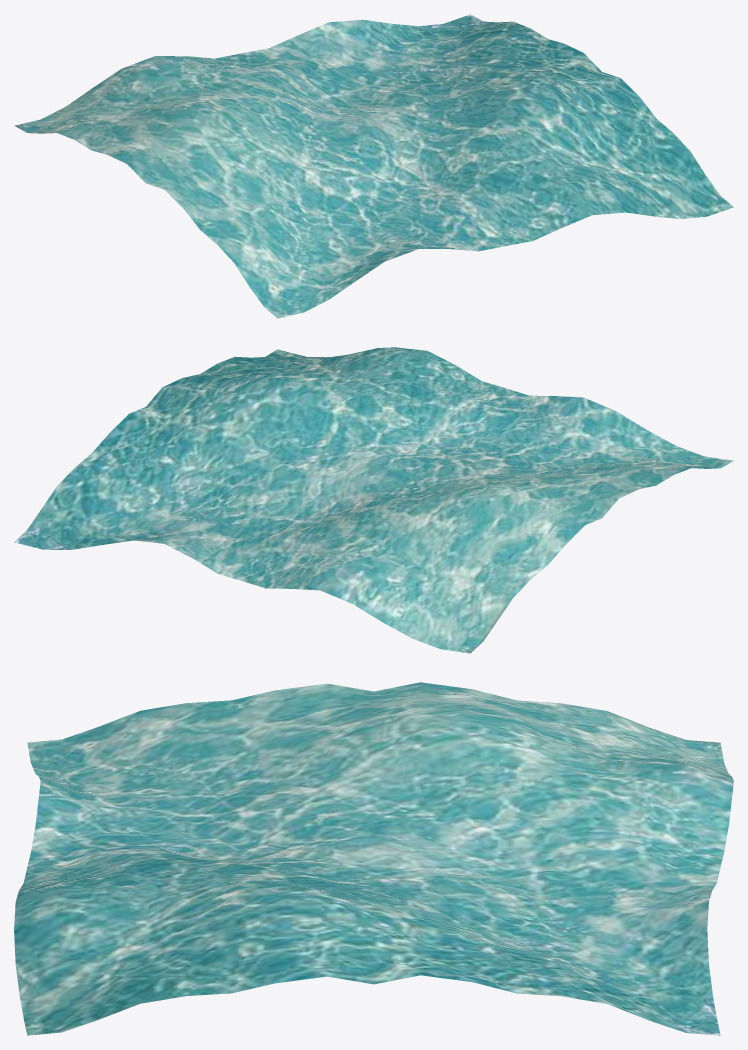
File: water_000179.obj
3 renders of one model, top to bottom at view 1: azimuth 30°, elevation 25°; view 2: azimuth 150°, elevation 25°; view 3: azimuth 270°, elevation 25°, orthographic. The views are drawn at different scales.
Visible parts, largest first — view 1: Plan.003_Plan.001; view 2: Plan.003_Plan.001; view 3: Plan.003_Plan.001.
Part boxes in pixels (bbox=[...]): Plan.003_Plan.001: bbox=[14, 14, 733, 318]; Plan.003_Plan.001: bbox=[14, 347, 733, 653]; Plan.003_Plan.001: bbox=[14, 682, 733, 1035].
Bounding box in the file's own units: 60601 × 7886 × 62656.
Materials: 1 (1 with a texture image).
